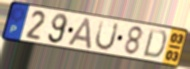2: (24, 10, 47, 42)
8: (123, 25, 144, 57)
9: (46, 12, 69, 45)
A: (66, 17, 93, 51)
D: (141, 27, 168, 60)
U: (94, 19, 121, 52)
